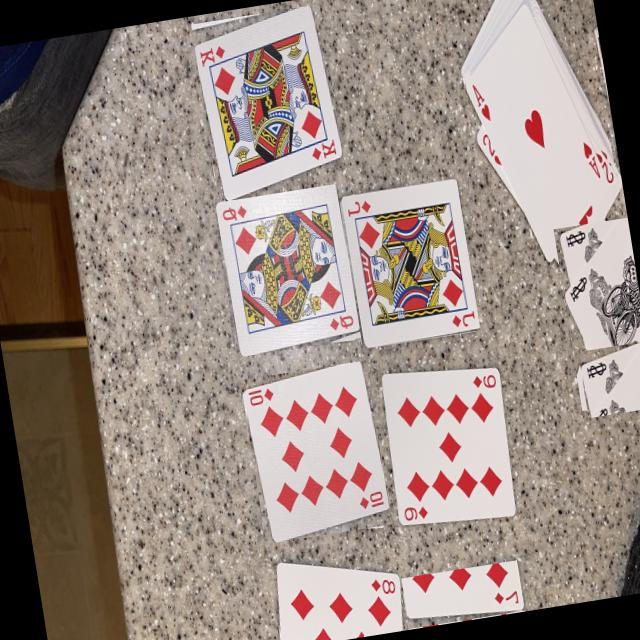10 of diamonds: (242, 362, 388, 543)
7 of diamonds: (401, 561, 523, 621)
8 of diamonds: (275, 563, 401, 640)
9 of diamonds: (381, 368, 515, 526)
Ace of hearts: (465, 5, 605, 262)
Jack of diamonds: (340, 180, 478, 348)
Joker: (564, 218, 640, 403), (580, 344, 640, 418)
King of diamonds: (194, 7, 341, 201)
Queen of diamonds: (214, 181, 358, 357)
